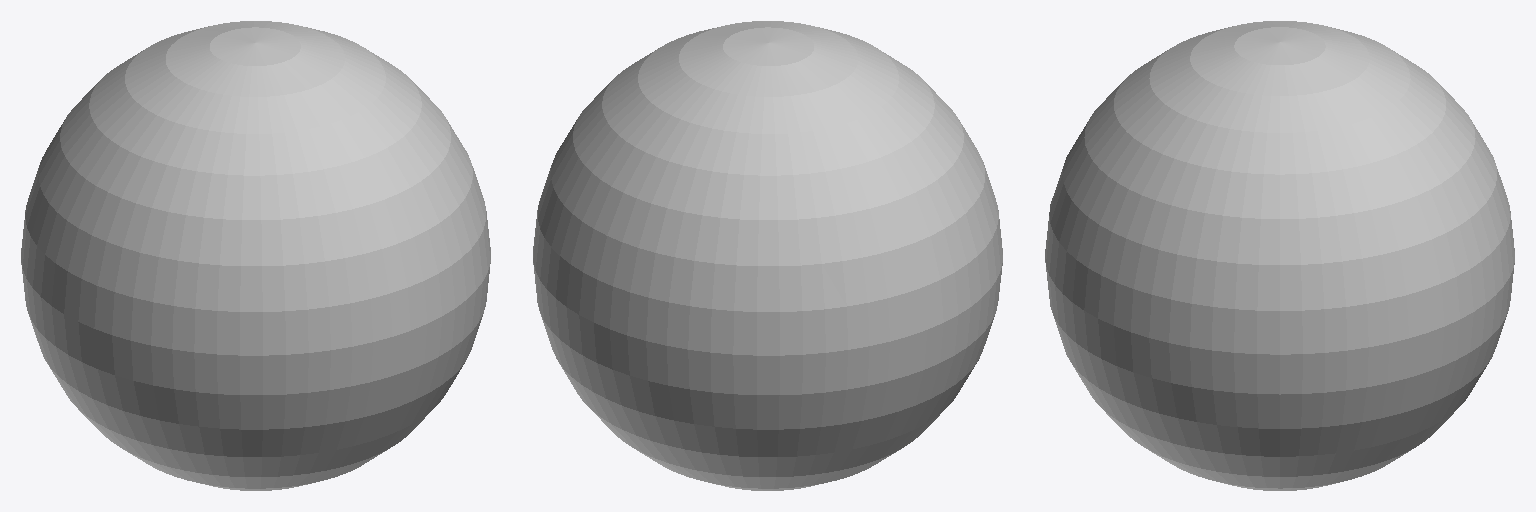
File: earthBuilt.obj
The picture shows the model from 3 angles: view 1: azimuth 30°, elevation 25°; view 2: azimuth 150°, elevation 25°; view 3: azimuth 270°, elevation 25°; orthographic projection.
Visible parts, largest first — view 1: Plane; view 2: Plane; view 3: Plane.
Part boxes in pixels (bbox=[...]): Plane: bbox=[21, 21, 490, 490]; Plane: bbox=[533, 21, 1002, 490]; Plane: bbox=[1045, 21, 1514, 490].
Bounding box in the file's own units: 1.27 × 1.27 × 1.27.